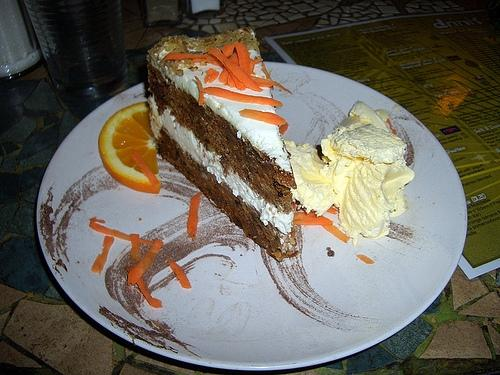carrot: (200, 86, 284, 108), (127, 238, 163, 286), (207, 47, 246, 90), (124, 266, 162, 308), (90, 221, 152, 245), (222, 58, 264, 92), (131, 150, 160, 186), (91, 236, 114, 276), (250, 75, 293, 94), (186, 191, 202, 240), (167, 258, 192, 288), (240, 108, 286, 124), (218, 50, 239, 84), (234, 41, 250, 77), (321, 224, 349, 243), (161, 53, 220, 62), (130, 233, 141, 264), (194, 76, 205, 106), (292, 217, 333, 225), (262, 63, 274, 90), (294, 212, 316, 221), (356, 254, 375, 264), (208, 70, 220, 84), (226, 73, 237, 88), (224, 44, 235, 57), (279, 122, 288, 134), (326, 206, 338, 214), (248, 59, 254, 75), (193, 58, 208, 62), (253, 58, 264, 63)
orange: (98, 101, 161, 194)
